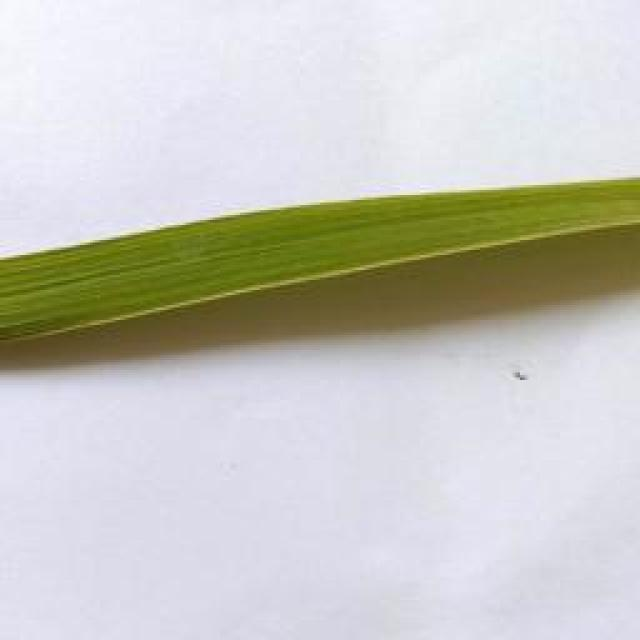Healthy-Plant: (0, 170, 640, 350)
